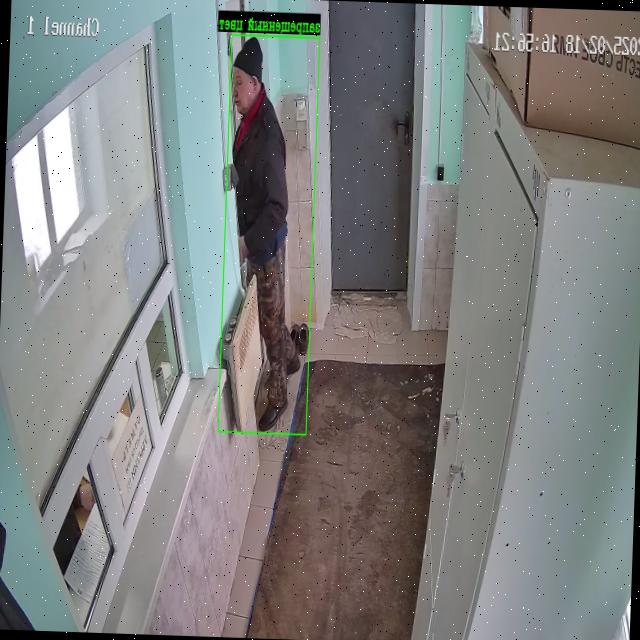Person: (232, 37, 299, 430)
